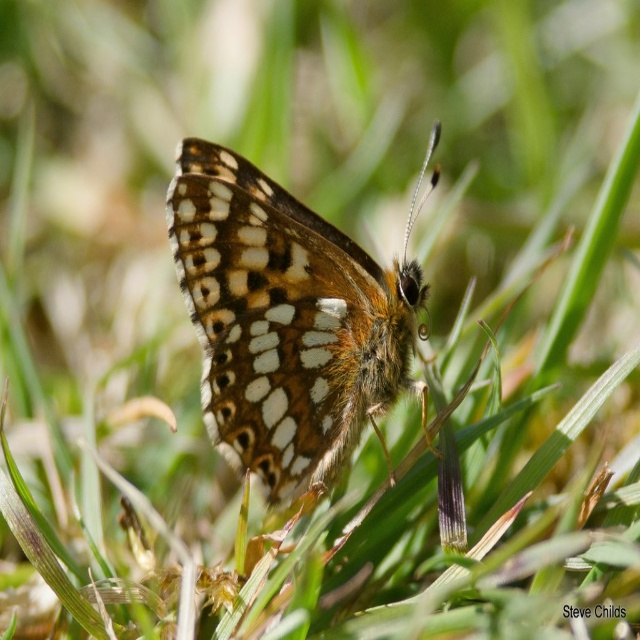Butterfly: (162, 109, 469, 525)
